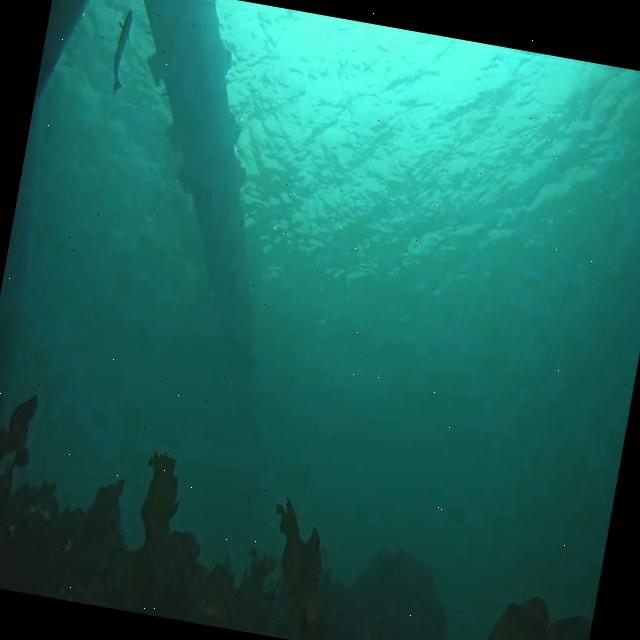fish: (107, 8, 134, 98)
